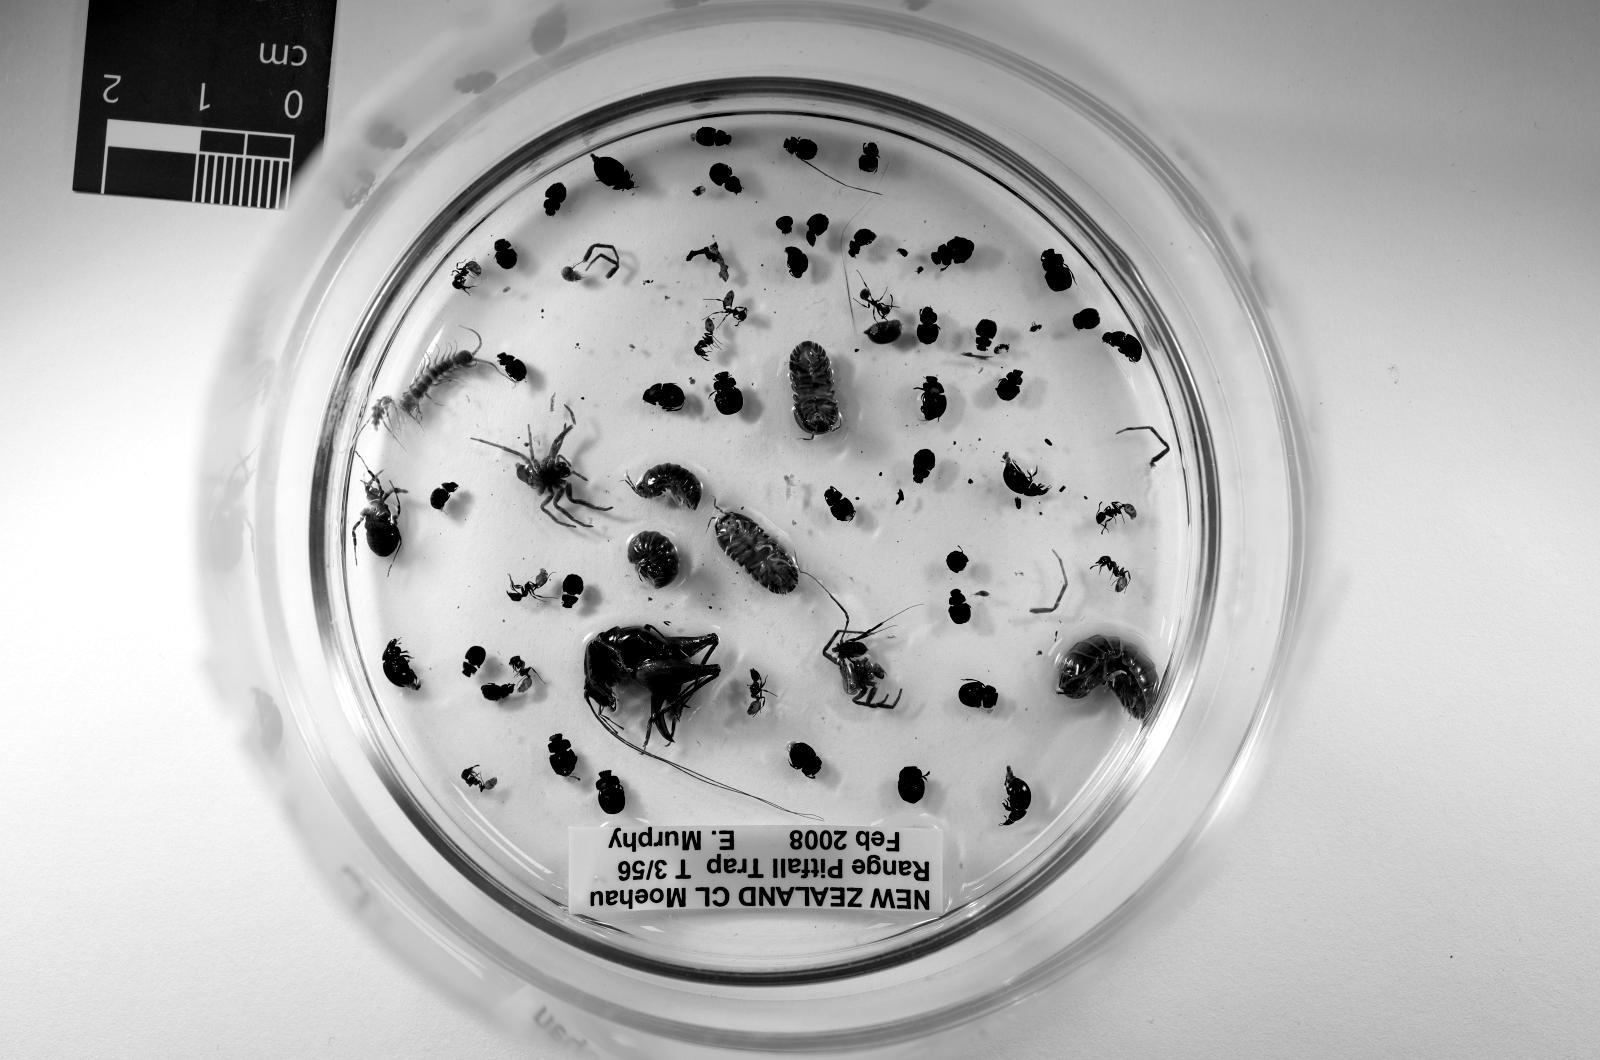araneae: (472, 407, 613, 528), (837, 652, 896, 711)
chilopoda: (371, 332, 497, 428)
coleoptera: (381, 640, 422, 690), (1003, 453, 1047, 497), (1003, 767, 1031, 826), (590, 155, 634, 189), (1041, 248, 1075, 292), (931, 237, 974, 270), (546, 733, 578, 776), (713, 373, 744, 416), (788, 742, 822, 780), (597, 770, 626, 814), (1103, 332, 1144, 363), (919, 376, 947, 419), (896, 767, 928, 804), (959, 680, 997, 711), (643, 382, 685, 409), (825, 487, 856, 522), (497, 351, 529, 382), (710, 164, 740, 195), (915, 308, 940, 344), (784, 245, 809, 279), (784, 137, 818, 161), (847, 230, 875, 258), (997, 369, 1022, 401), (950, 590, 972, 625), (462, 646, 487, 677), (432, 481, 459, 509), (913, 451, 934, 485), (974, 319, 997, 351), (691, 128, 731, 146), (563, 575, 584, 608), (494, 239, 516, 270), (544, 183, 565, 214), (807, 214, 828, 245), (481, 684, 516, 702), (1071, 308, 1100, 329), (860, 143, 879, 174)
formicidae: (1094, 556, 1132, 593), (506, 568, 546, 602), (1097, 503, 1138, 531), (860, 289, 894, 319), (747, 671, 769, 717), (459, 767, 497, 791), (510, 655, 535, 692), (453, 260, 481, 292), (694, 317, 715, 357), (721, 292, 747, 323)
opiliones: (354, 472, 407, 556)
orthoptera: (584, 625, 719, 755), (1060, 634, 1159, 720), (713, 512, 799, 593), (791, 342, 841, 438), (631, 463, 704, 509), (628, 531, 678, 587)
